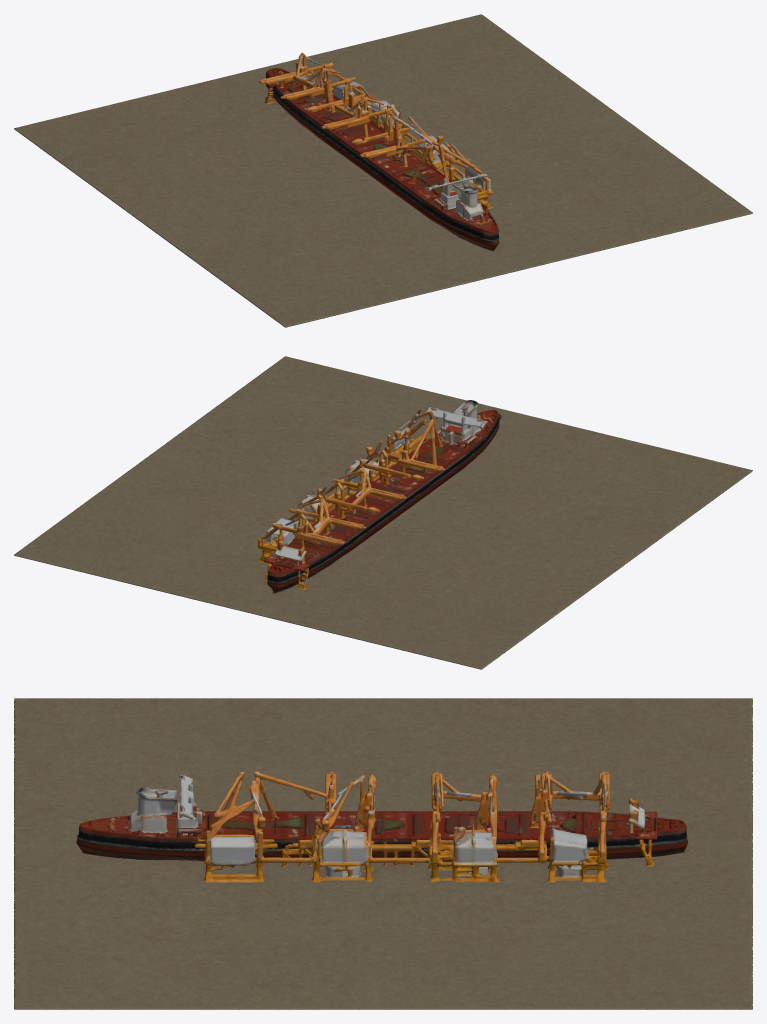
The model's file is jetty.glb.
3 views of the same model, one above another, from view 1: azimuth 30°, elevation 25°; view 2: azimuth 150°, elevation 25°; view 3: azimuth 270°, elevation 25° (orthographic). The views are drawn at different scales.
Bounding box in the file's own units: 0.9823 × 0.1285 × 0.9871.
